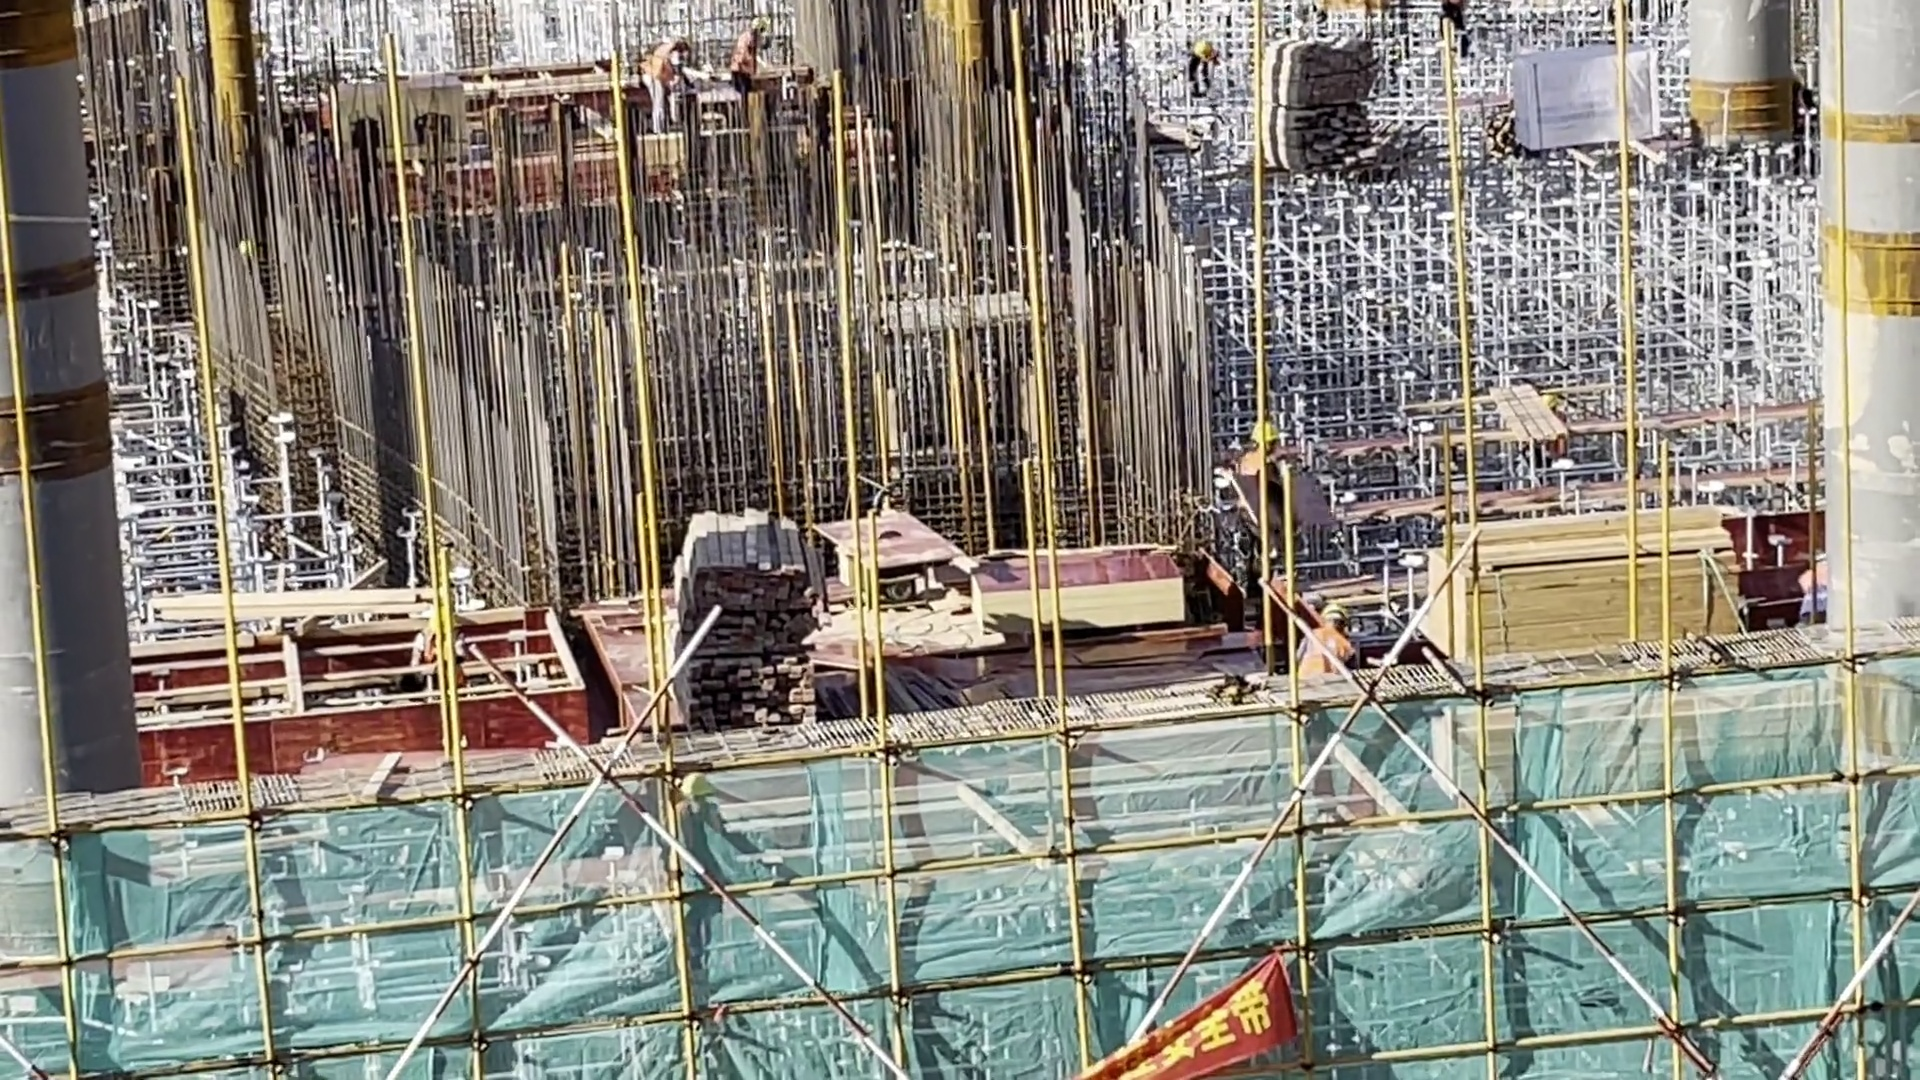helmet: (1315, 602, 1363, 628), (1248, 417, 1282, 446)
person: (1230, 416, 1300, 589), (1291, 593, 1370, 674)
slogan: (1046, 951, 1308, 1080)
vest: (1295, 623, 1367, 676)
wood: (1397, 475, 1777, 687), (659, 474, 841, 743)
